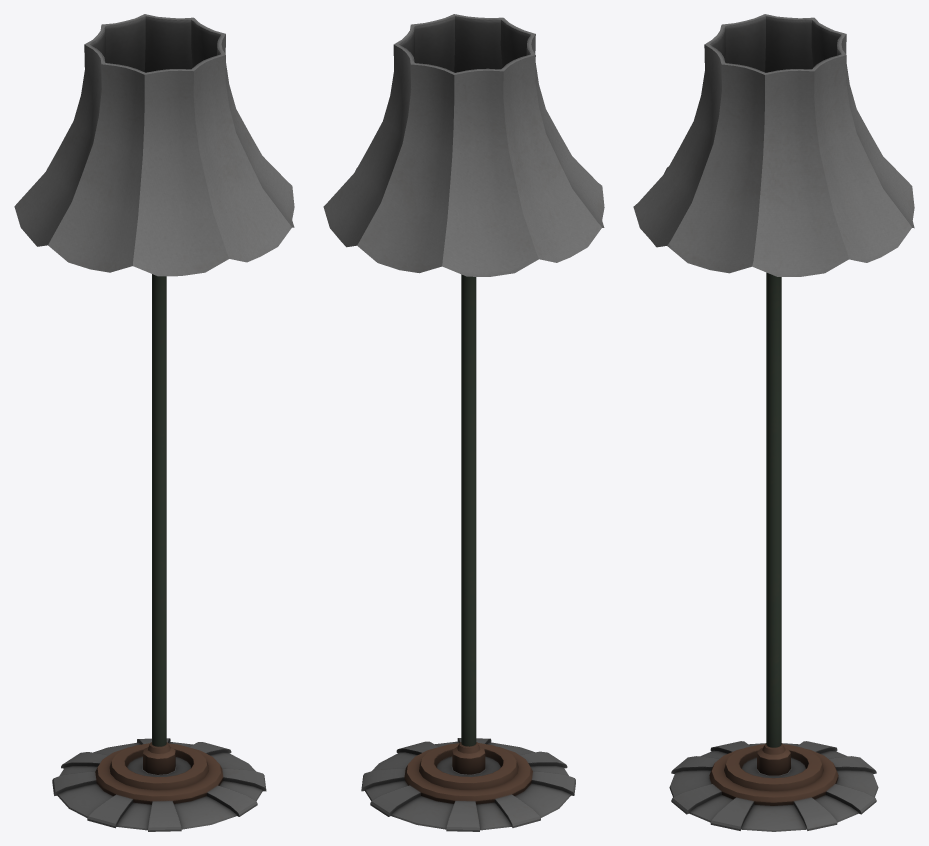
The model's file is Lamp_05.fbx.
The picture shows the model from 3 angles, left to right: view 1: azimuth 30°, elevation 25°; view 2: azimuth 150°, elevation 25°; view 3: azimuth 270°, elevation 25°; orthographic projection.
Visible parts, largest first — view 1: Lamp_Stand; view 2: Lamp_Stand; view 3: Lamp_Stand.
Boxes of the visible parts, x1,y1,x2,y2 form: Lamp_Stand: (14,14,294,831); Lamp_Stand: (323,14,604,831); Lamp_Stand: (633,14,914,831).
Size of the model in its own units: 58.23 by 169 by 57.83.
Materials: 1 (1 with a texture image).
